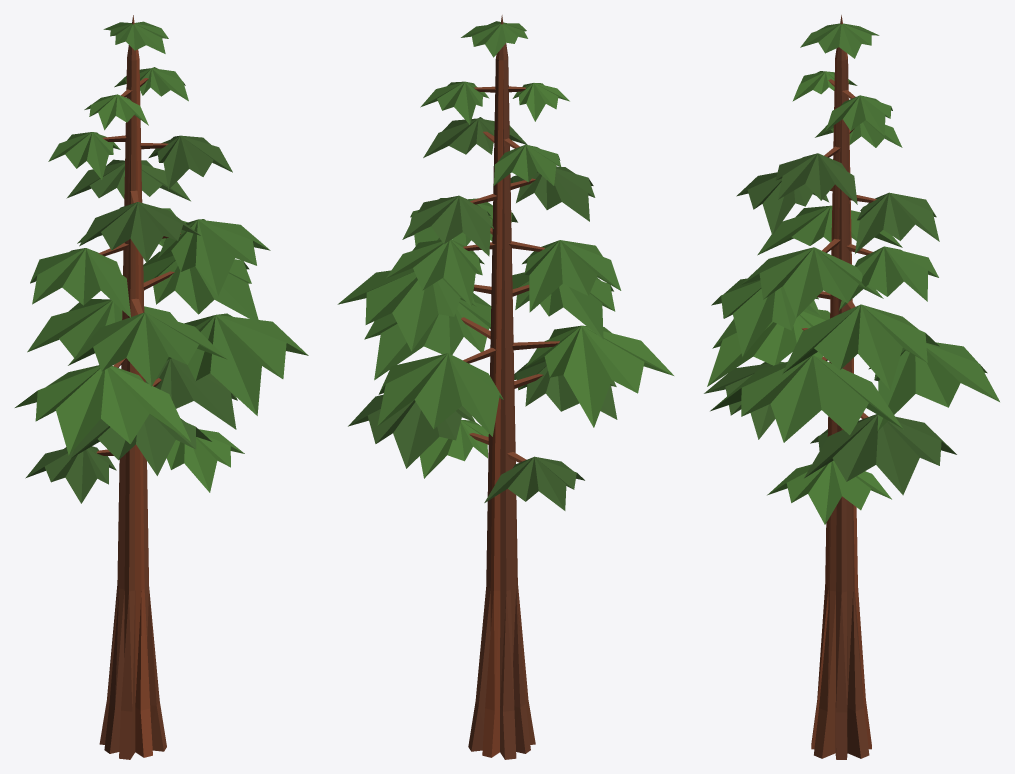
Rendered from dawn-redwood-001c29.glb.
3 renders of one model, left to right at view 1: azimuth 30°, elevation 25°; view 2: azimuth 150°, elevation 25°; view 3: azimuth 270°, elevation 25°, orthographic.
Visible parts, largest first — view 1: dawn-redwood-001c29; view 2: dawn-redwood-001c29; view 3: dawn-redwood-001c29.
Boxes of the visible parts, x1,y1,x2,y2 form: dawn-redwood-001c29: (15,15,308,759); dawn-redwood-001c29: (337,15,673,759); dawn-redwood-001c29: (704,15,999,759).
Size of the model in its own units: 7.59 by 20 by 7.34.
